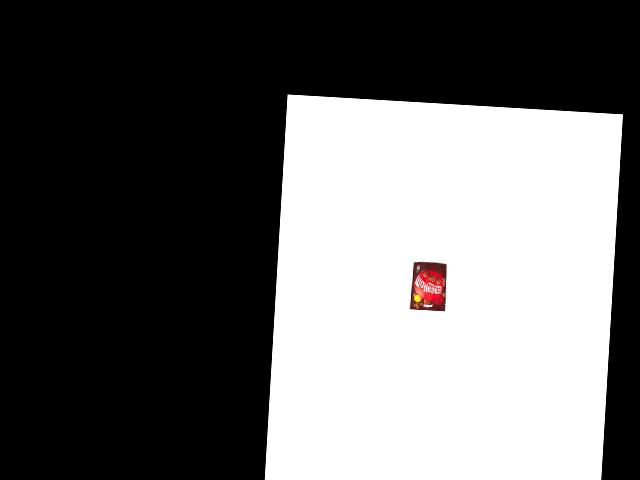chocolate: (409, 260, 448, 312)
